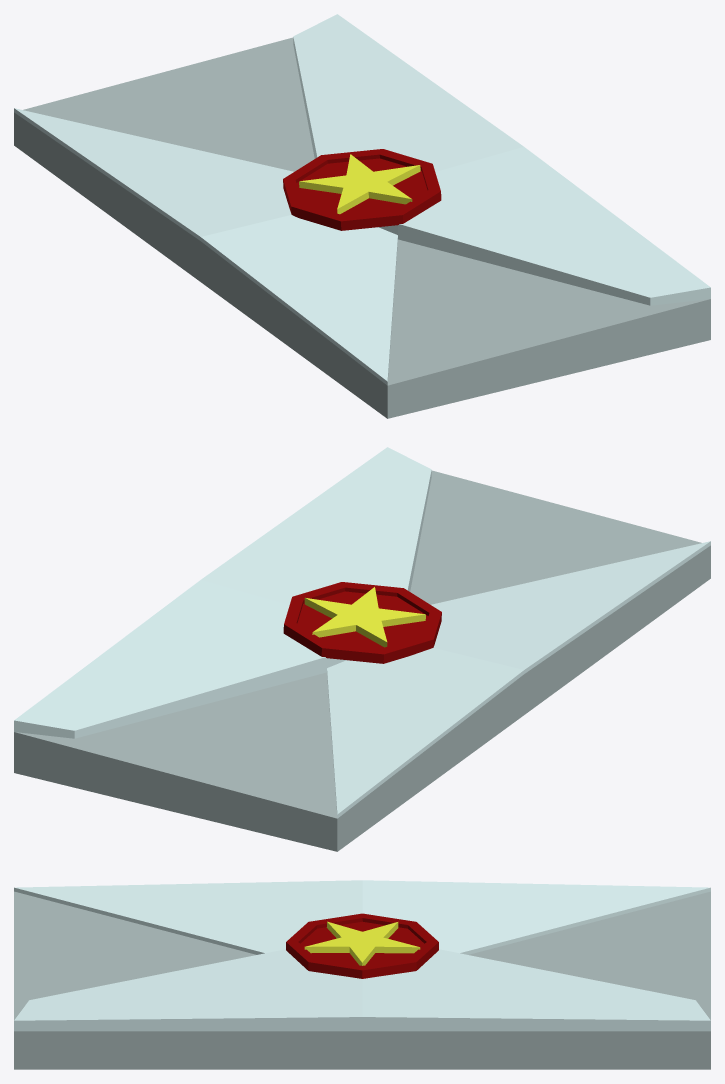
Rendered from Envelope.glb.
3 views of the same model, one above another, from view 1: azimuth 30°, elevation 25°; view 2: azimuth 150°, elevation 25°; view 3: azimuth 270°, elevation 25° (orthographic). The views are drawn at different scales.
Parts seen in each view (by area): view 1: Envelope; view 2: Envelope; view 3: Envelope.
Boxes of the visible parts, box(x1,y1,x2,y2) form: Envelope: box(14, 14, 710, 418); Envelope: box(14, 447, 710, 851); Envelope: box(14, 880, 710, 1069).
Bounding box in the file's own units: 0.165 × 0.0311 × 0.33.
1 material, 1 textured.
